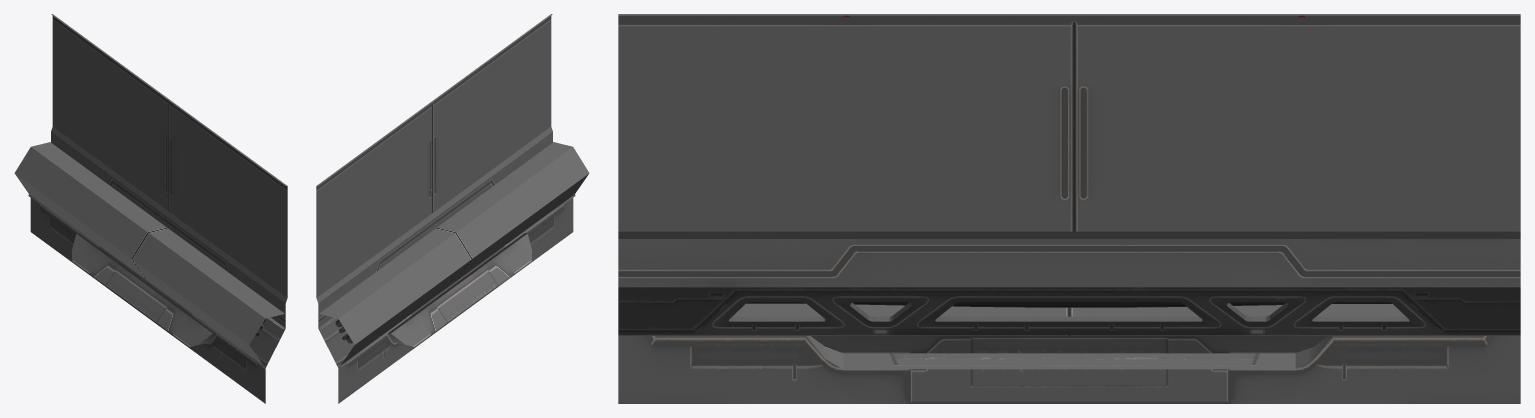
The model's file is TopCables_Straight.gltf.
3 views of the same model, side by side, from view 1: azimuth 30°, elevation 25°; view 2: azimuth 150°, elevation 25°; view 3: azimuth 270°, elevation 25° (orthographic). The views are drawn at different scales.
Parts seen in each view (by area): view 1: TopCables_Straight; view 2: TopCables_Straight; view 3: TopCables_Straight.
Boxes of the visible parts, left/top/right/bottom form: TopCables_Straight: left=14, top=14, right=287, bottom=403; TopCables_Straight: left=316, top=14, right=589, bottom=403; TopCables_Straight: left=618, top=14, right=1520, bottom=403.
Size of the model in its own units: 0.3839 by 2 by 4.
4 materials, 4 textured.
